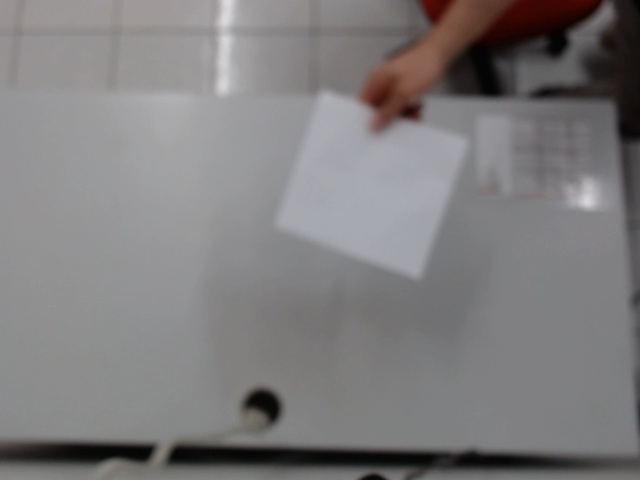divisor: (272, 67, 478, 289)
